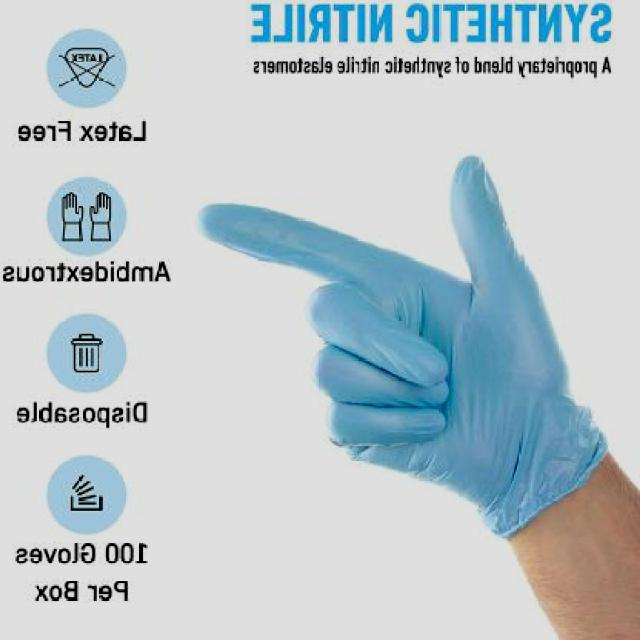glove: (192, 136, 618, 573)
